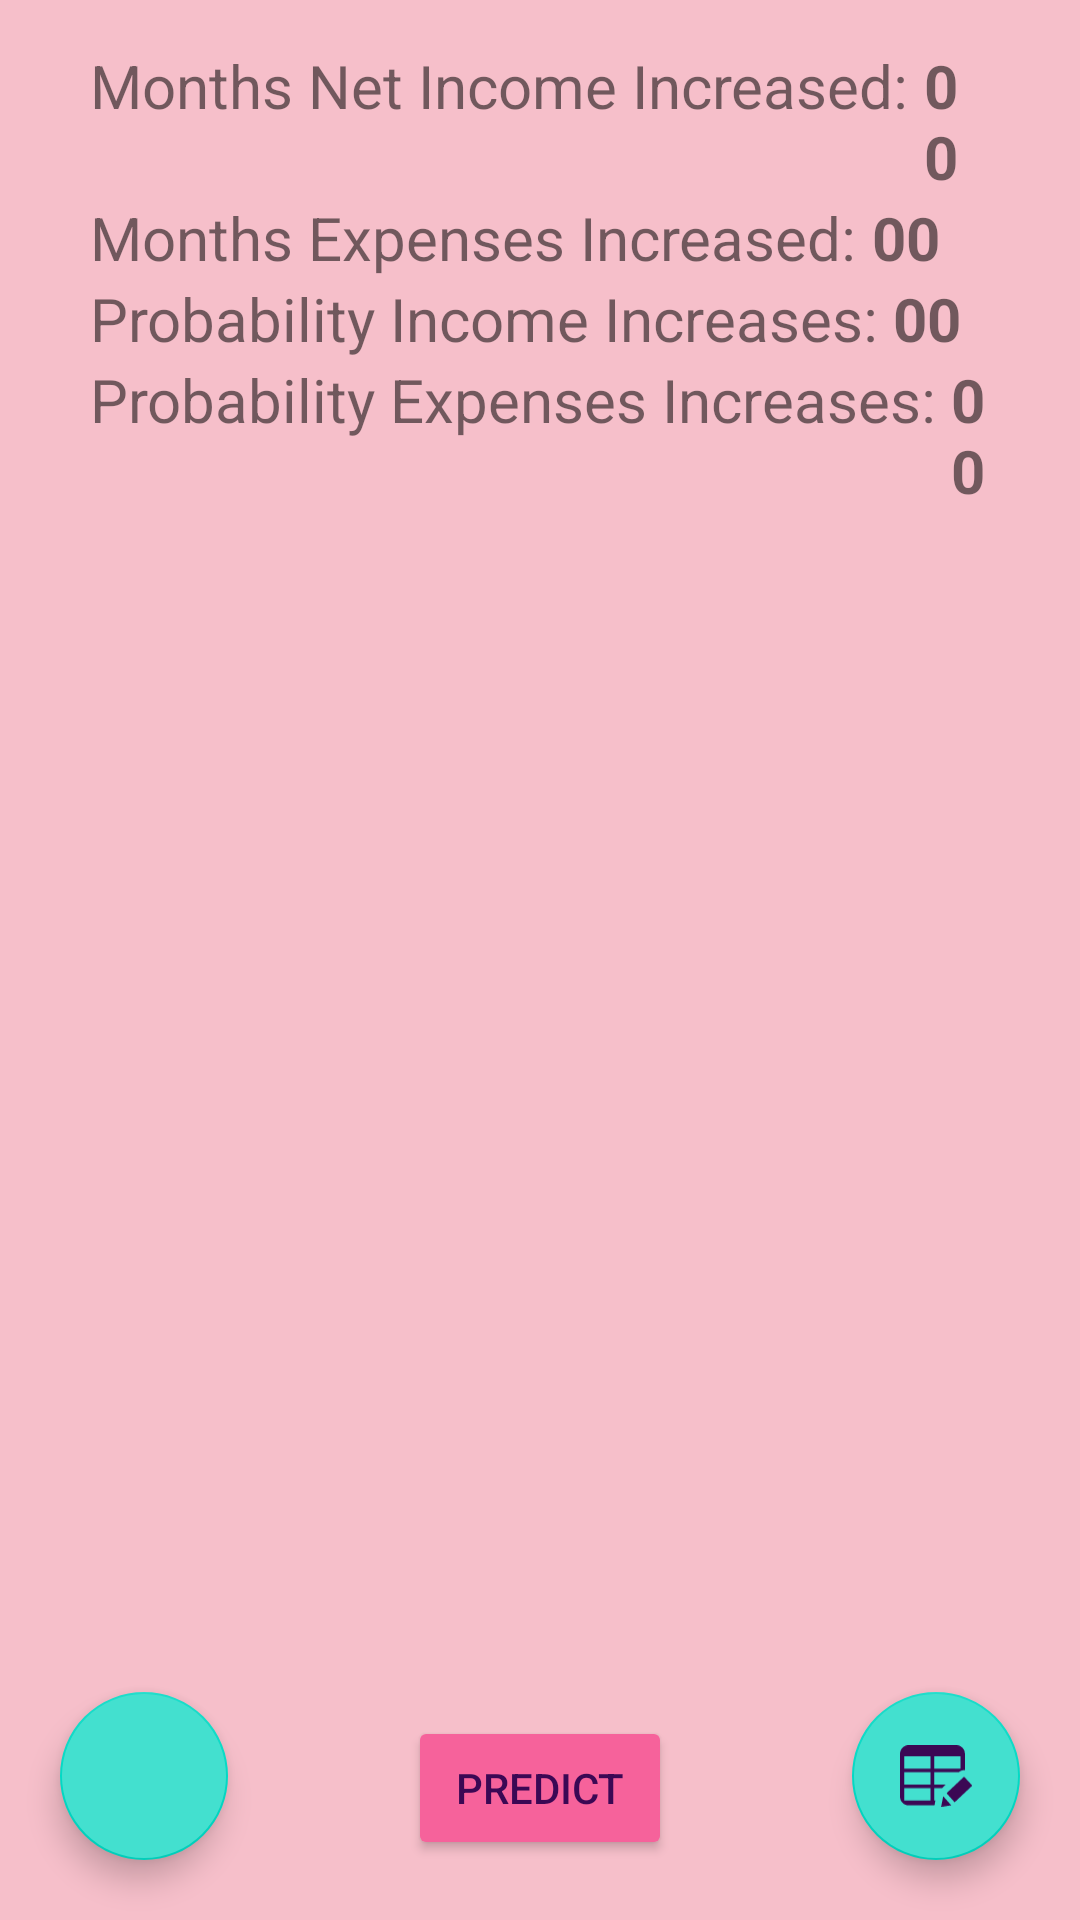

Icons on this 1080px x 1920px Android screen, each with its box as (x1, y1, x2, y2):
tableedit: (852, 1692, 1020, 1860)
